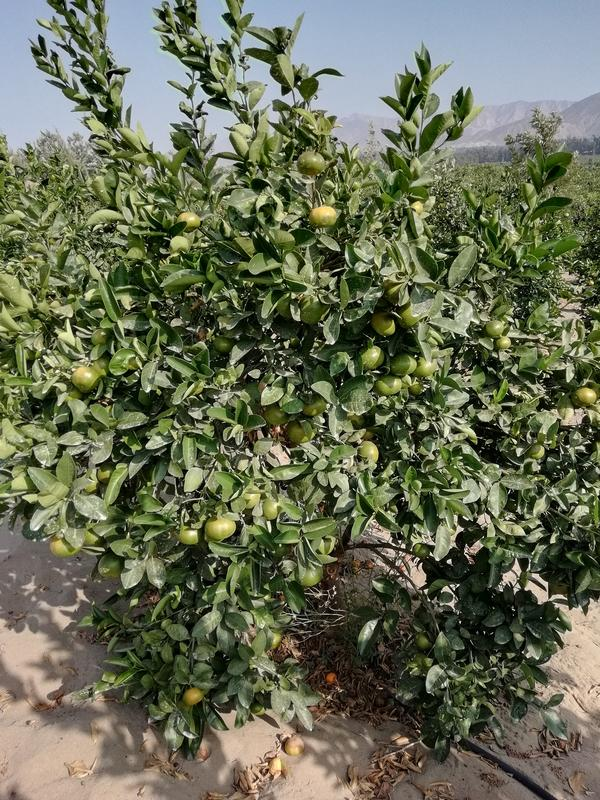mandarina verde: (72, 366, 100, 392), (205, 517, 237, 539), (49, 535, 77, 559), (176, 523, 205, 546), (372, 376, 403, 397), (359, 344, 384, 369), (298, 153, 325, 175), (284, 422, 313, 442), (98, 553, 122, 577), (373, 312, 396, 337), (309, 207, 337, 227), (296, 568, 324, 586), (393, 355, 417, 375), (179, 212, 201, 233), (417, 355, 438, 377), (359, 440, 379, 462), (573, 388, 596, 407), (182, 687, 204, 705), (90, 328, 110, 346), (484, 320, 504, 337), (215, 337, 233, 353), (530, 444, 546, 460), (495, 337, 512, 349)
